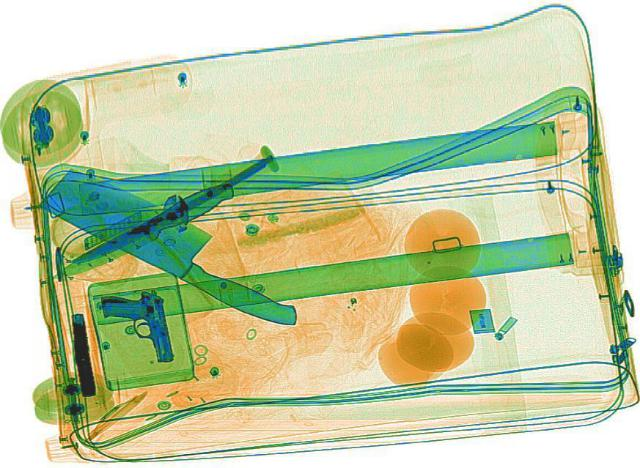Gun: (98, 286, 176, 365), (61, 311, 101, 396)
Knife: (23, 163, 334, 331), (69, 154, 277, 266), (41, 177, 241, 283)
